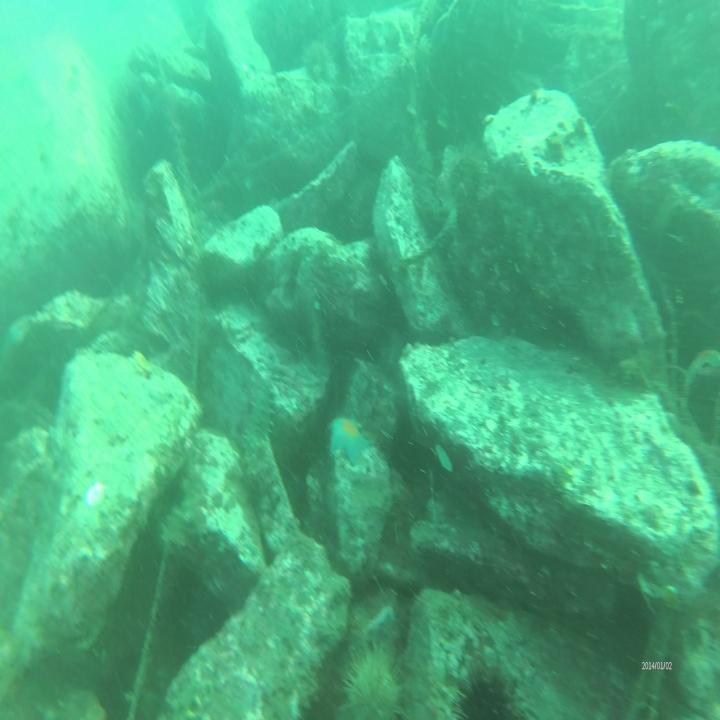echinus: (336, 643, 412, 720), (455, 659, 527, 720)
holothurian: (233, 374, 280, 467)
starfish: (329, 408, 371, 465)
